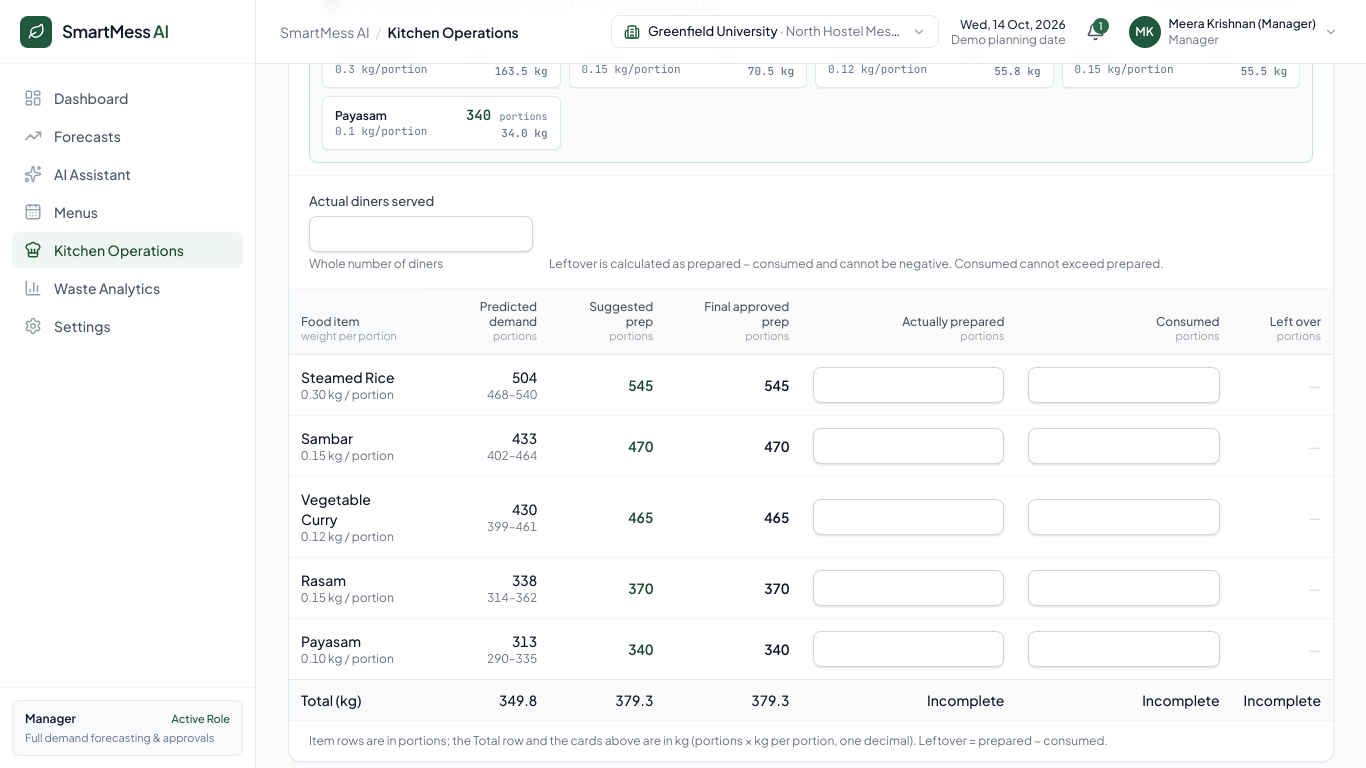
Scenario: kitchen operations › blocks consumed greater than prepared
(page scrolled)
Type "10" into the number field named "quantity prepared".
click(909, 385); type("10")  # box [813,367,1004,403]
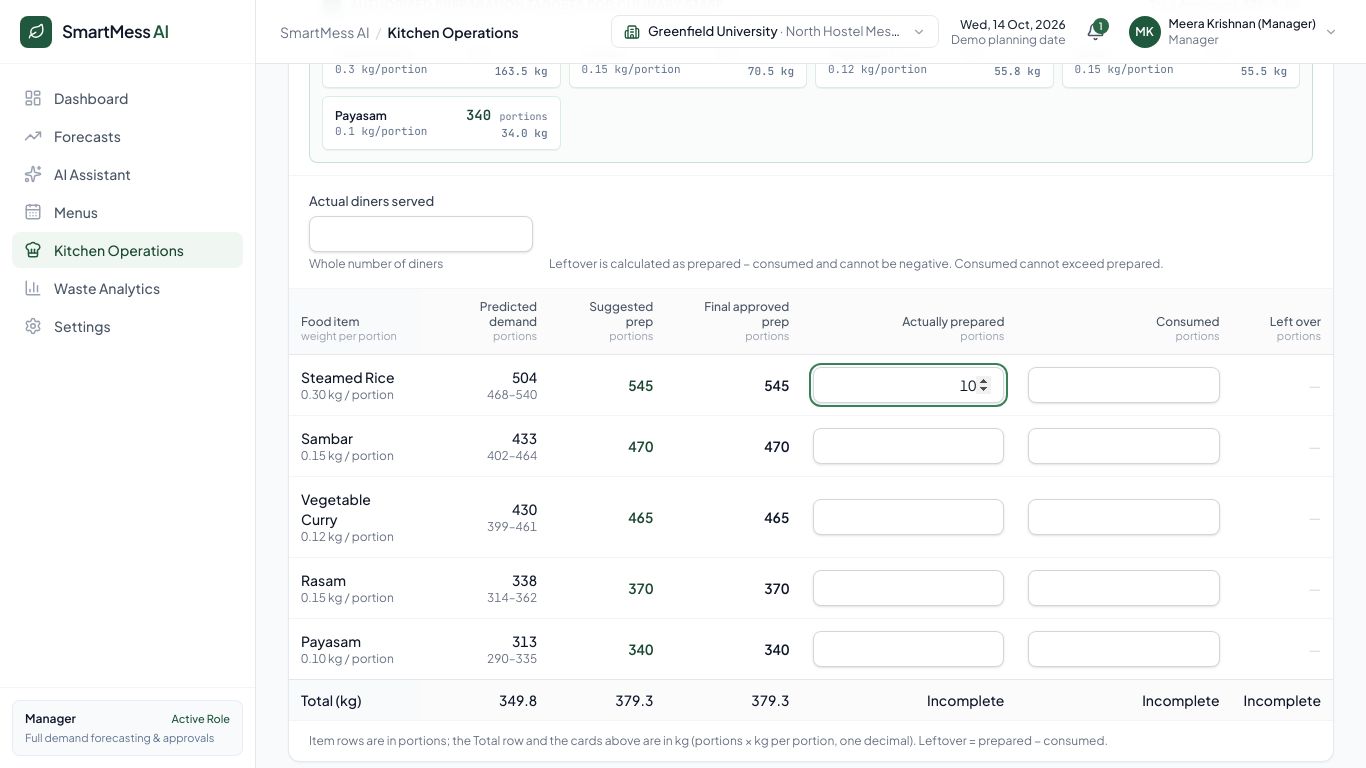
Type "20" into the number field named "quantity consumed".
click(1124, 385); type("20")  # box [1028,367,1220,403]
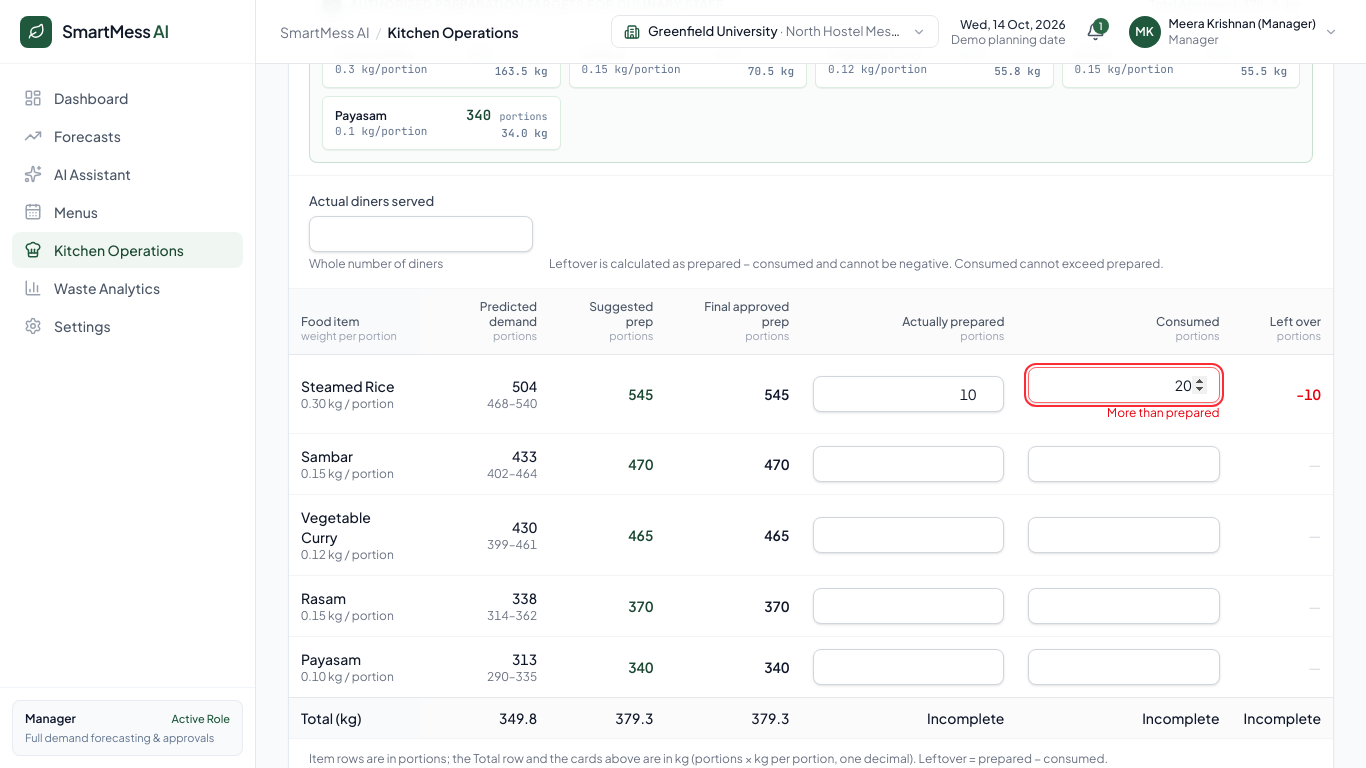
Result: the text "More than prepared" is shown at [1107,405,1220,420]
